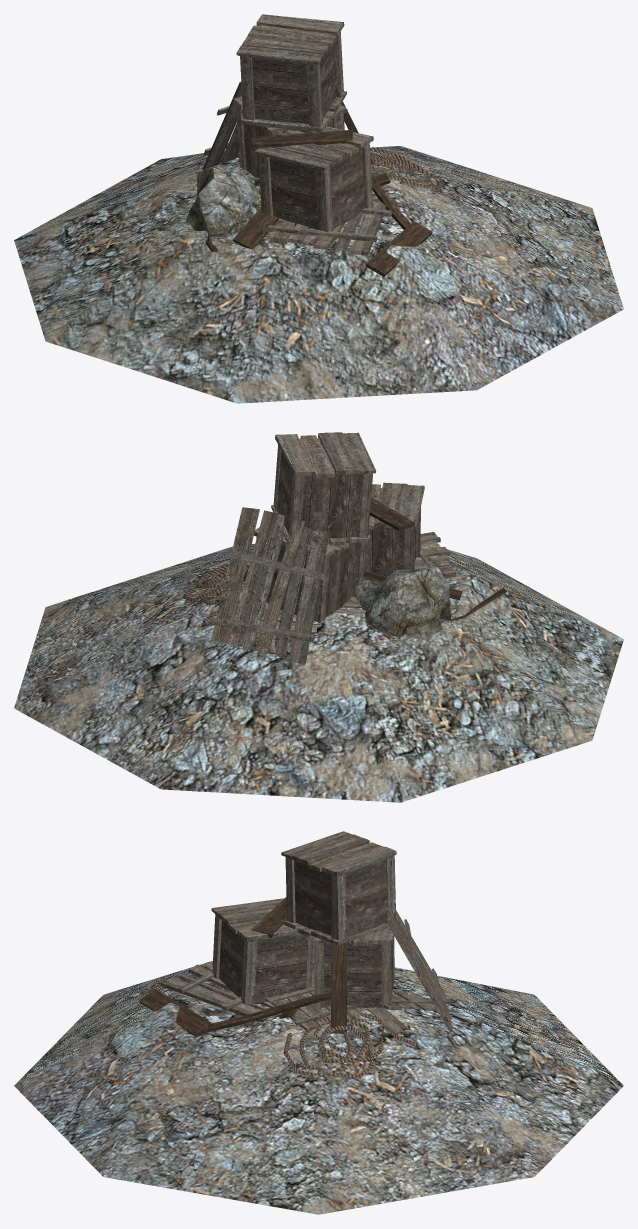
Rendered from props_garbage_01_lod_00.FBX.
The picture shows the model from 3 angles, top to bottom: view 1: azimuth 30°, elevation 25°; view 2: azimuth 150°, elevation 25°; view 3: azimuth 270°, elevation 25°; orthographic projection. The views are drawn at different scales.
Parts seen in each view (by area): view 1: props_garbage_01_lod_00; view 2: props_garbage_01_lod_00; view 3: props_garbage_01_lod_00.
Boxes of the visible parts, x1=… form: props_garbage_01_lod_00: x1=14, y1=14, x2=623, y2=403; props_garbage_01_lod_00: x1=14, y1=432, x2=623, y2=802; props_garbage_01_lod_00: x1=14, y1=831, x2=623, y2=1214.
Bounding box in the file's own units: 760 × 315 × 760.
